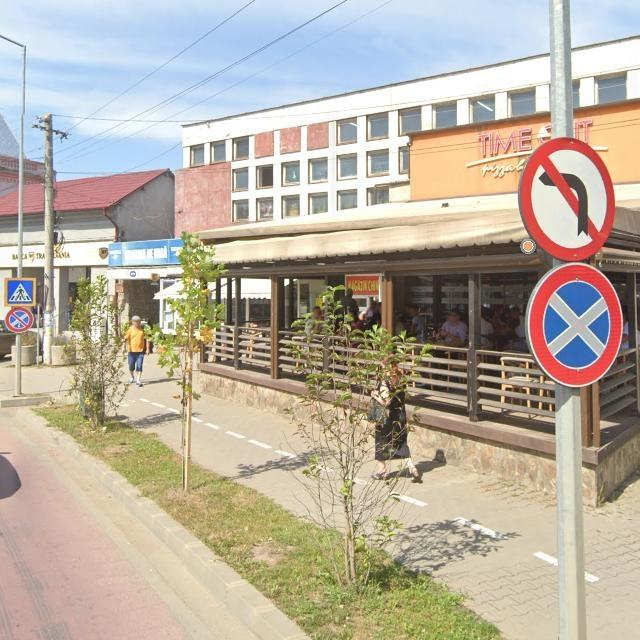forb_waiting: (525, 262, 623, 388), (5, 307, 34, 333)
info_crosswalk: (5, 277, 35, 307)
